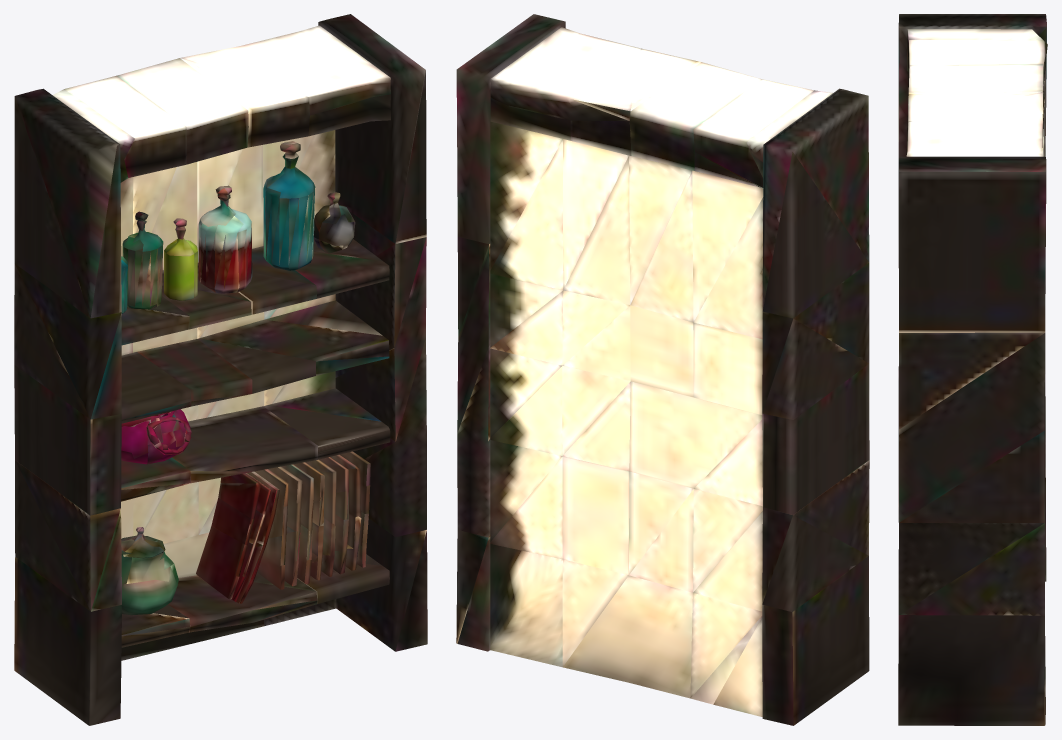
Rendered from potion-shelf.lod1.glb.
3 renders of one model, left to right at view 1: azimuth 30°, elevation 25°; view 2: azimuth 150°, elevation 25°; view 3: azimuth 270°, elevation 25°, orthographic. The views are drawn at different scales.
Size of the model in its own units: 1.11 by 1.8 by 0.4404.
Materials: 1 (1 with a texture image).
